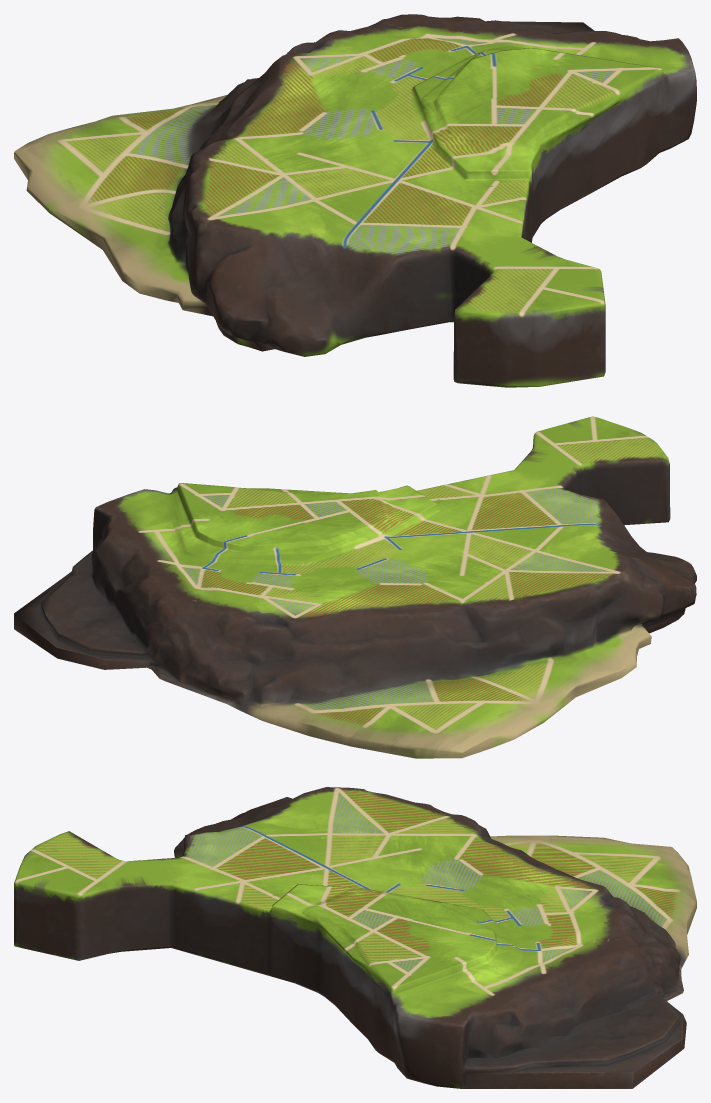
File: Mesh_Nor_East_Terrain.fbx
3 renders of one model, top to bottom at view 1: azimuth 30°, elevation 25°; view 2: azimuth 150°, elevation 25°; view 3: azimuth 270°, elevation 25°, orthographic. The views are drawn at different scales.
Visible parts, largest first — view 1: Nor_City_East_Terrain; view 2: Nor_City_East_Terrain; view 3: Nor_City_East_Terrain.
Boxes of the visible parts, <box> form: Nor_City_East_Terrain: <box>14,14,696,387</box>; Nor_City_East_Terrain: <box>14,416,696,758</box>; Nor_City_East_Terrain: <box>14,787,696,1088</box>.
Bounding box in the file's own units: 2722 × 427 × 3081.
